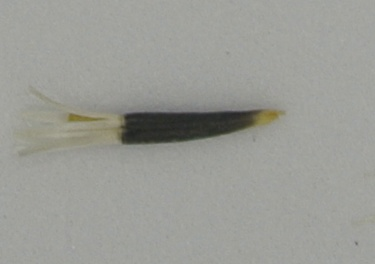เมล็ดดีติดกัน: (12, 84, 287, 160)
